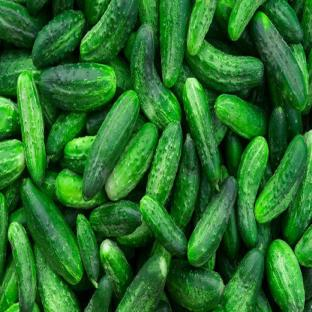Cucumber: (21, 179, 83, 284), (83, 91, 139, 200), (251, 12, 306, 110), (131, 24, 181, 129), (255, 135, 307, 223), (188, 177, 237, 266), (105, 123, 158, 200), (183, 78, 220, 185), (186, 41, 263, 92), (39, 63, 116, 111), (80, 0, 138, 62), (237, 137, 268, 248), (282, 131, 311, 245), (160, 0, 218, 56), (17, 72, 45, 186), (34, 245, 80, 311), (32, 11, 85, 67), (117, 254, 168, 311), (170, 134, 200, 230), (167, 260, 224, 310), (147, 123, 182, 204), (141, 196, 187, 257), (266, 240, 304, 311), (222, 248, 263, 311), (8, 222, 36, 311), (215, 95, 267, 139), (206, 205, 241, 265), (56, 169, 107, 209), (46, 112, 86, 162), (0, 0, 39, 48), (100, 240, 132, 298), (0, 50, 40, 96), (90, 201, 141, 237), (261, 0, 303, 43), (77, 214, 99, 288), (290, 45, 309, 115), (0, 140, 26, 189), (62, 136, 95, 173), (193, 170, 215, 225), (269, 107, 287, 169), (108, 56, 133, 98), (84, 275, 112, 311), (0, 256, 18, 311), (117, 221, 153, 247), (38, 89, 60, 131), (172, 63, 195, 103), (0, 97, 20, 140), (216, 247, 239, 284), (86, 104, 112, 136), (225, 131, 243, 176), (3, 176, 23, 213), (284, 104, 302, 142), (0, 194, 8, 278), (295, 226, 311, 267), (40, 169, 59, 202), (150, 240, 171, 267), (207, 38, 240, 55), (212, 109, 227, 145), (63, 208, 84, 233), (257, 223, 272, 257), (303, 51, 311, 114), (9, 207, 28, 232), (71, 272, 94, 291), (35, 6, 52, 29), (124, 32, 136, 63), (254, 290, 271, 311), (302, 268, 312, 300), (154, 298, 171, 311), (219, 165, 229, 186), (204, 254, 215, 270), (6, 303, 20, 311), (303, 300, 311, 311)
